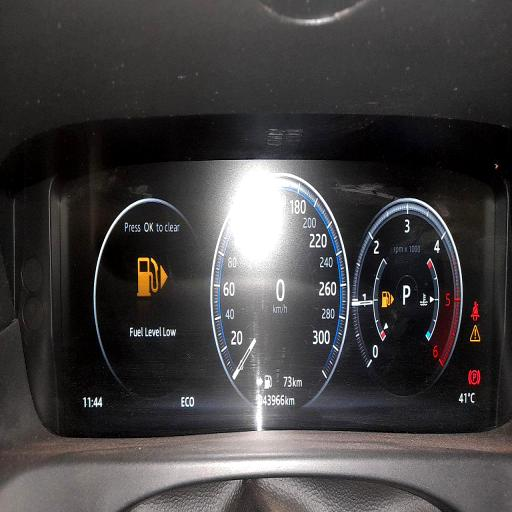belt: (471, 301, 479, 321)
tachometer: (352, 196, 463, 396)
